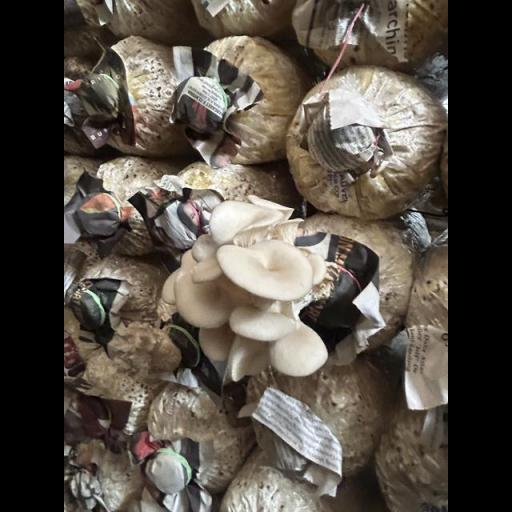White Oyster Mushroom: (161, 198, 340, 380)
